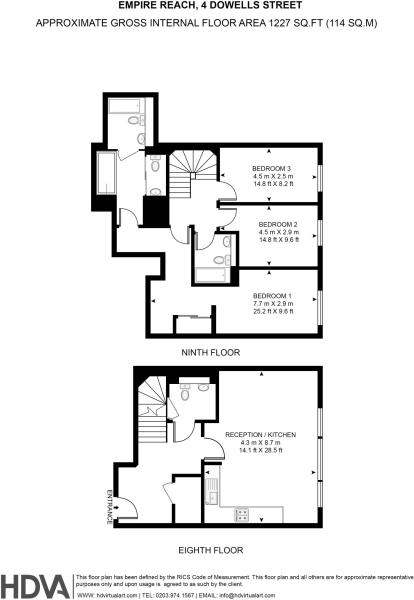GrossArea: (34, 17, 378, 30)
